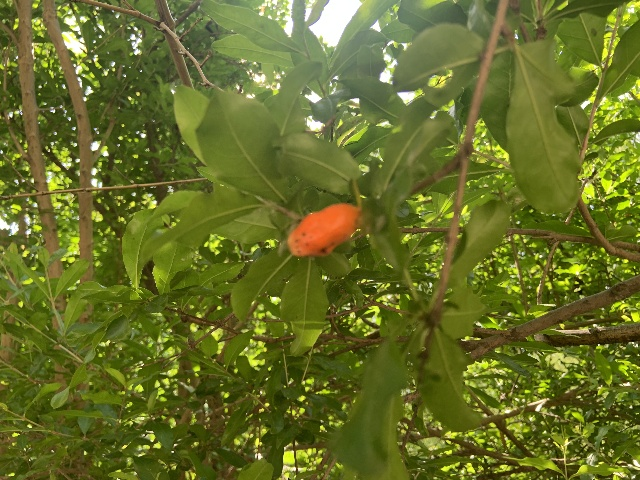bud: (287, 203, 360, 257)
